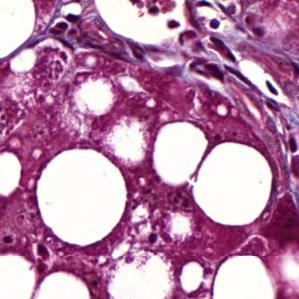steatosis: (32, 146, 134, 244), (153, 118, 210, 194)
